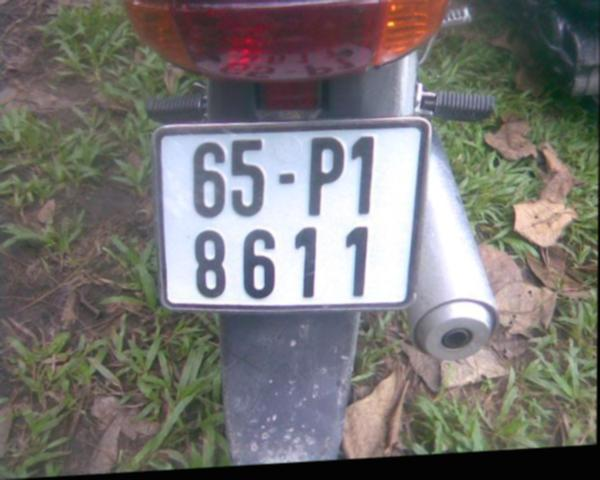License_Plate: (156, 106, 422, 323)
